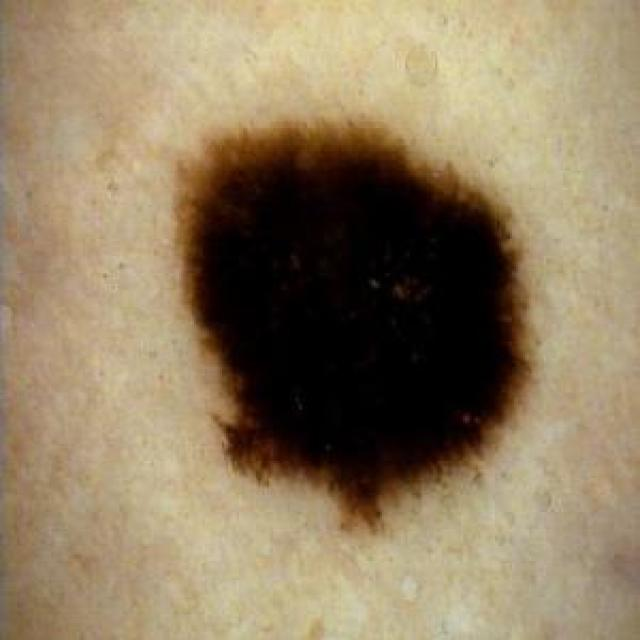Cancer: (170, 111, 539, 532)
